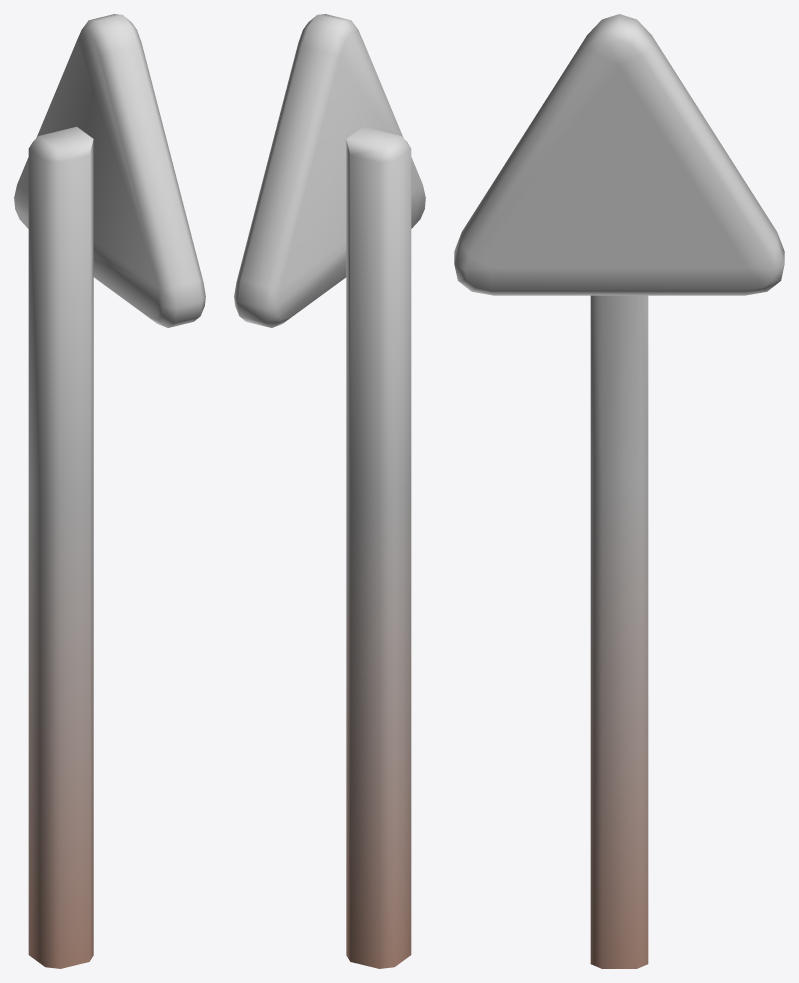
File: NF_Env_Road Sign 02.fbx
The picture shows the model from 3 angles, left to right: view 1: azimuth 30°, elevation 25°; view 2: azimuth 150°, elevation 25°; view 3: azimuth 270°, elevation 25°; orthographic projection. The views are drawn at different scales.
Visible parts, largest first — view 1: Sign 2; view 2: Sign 2; view 3: Sign 2.
Boxes of the visible parts, x1,y1,x2,y2 form: Sign 2: [14, 14, 205, 968]; Sign 2: [234, 14, 425, 968]; Sign 2: [454, 14, 784, 968].
Size of the model in its own units: 0.3914 by 3.66 by 1.14.
